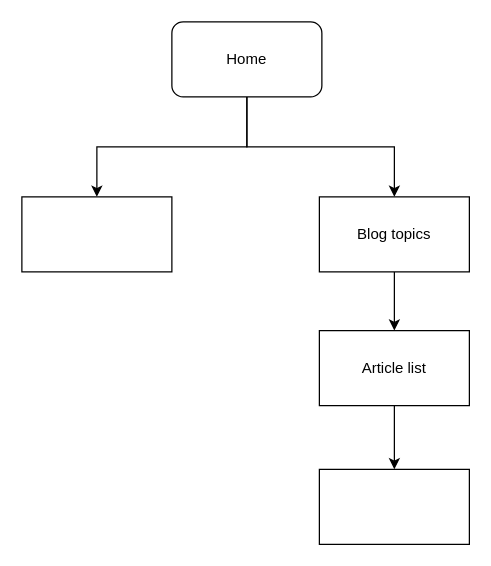
Image size: 491x566. Some labels were removed from this diagram. The centre of each missing label's shape, as x and y in pixels:
"EasterEgg" belongs at pixel 96 234.
"full Article Vie" belongs at pixel 393 506.
